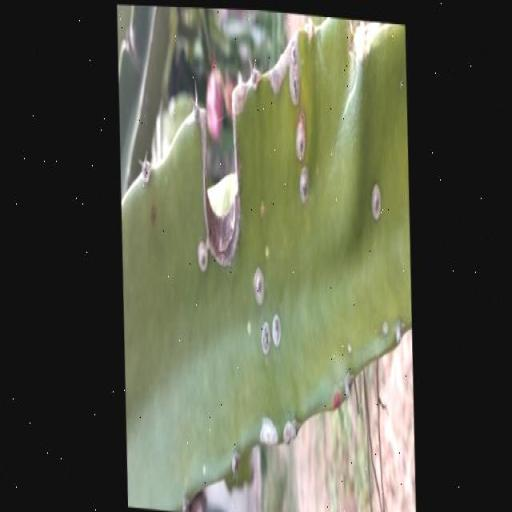stemcanker: (200, 240, 222, 280), (289, 52, 310, 91), (296, 127, 314, 167), (267, 307, 288, 341), (224, 249, 244, 281)
